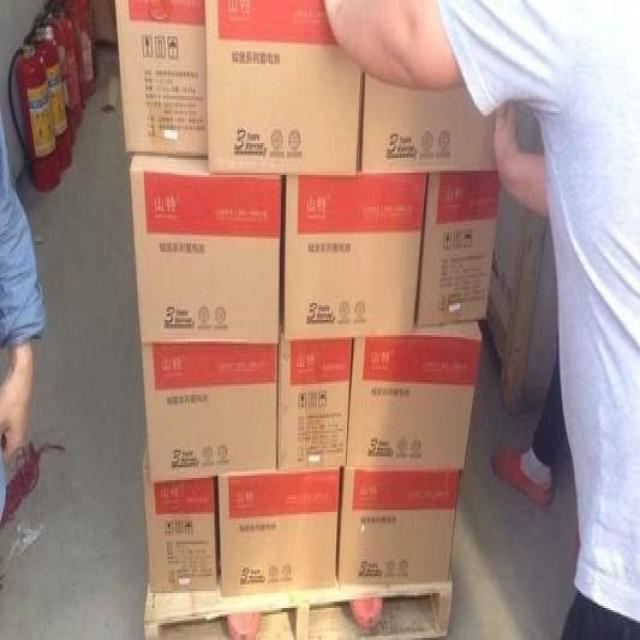box: (127, 154, 282, 343), (204, 0, 361, 177), (283, 173, 426, 339), (347, 320, 483, 469), (140, 341, 279, 484), (357, 68, 496, 177), (219, 469, 340, 593), (336, 465, 461, 585), (115, 0, 207, 156), (413, 173, 502, 329), (142, 452, 219, 595), (277, 339, 353, 471)
